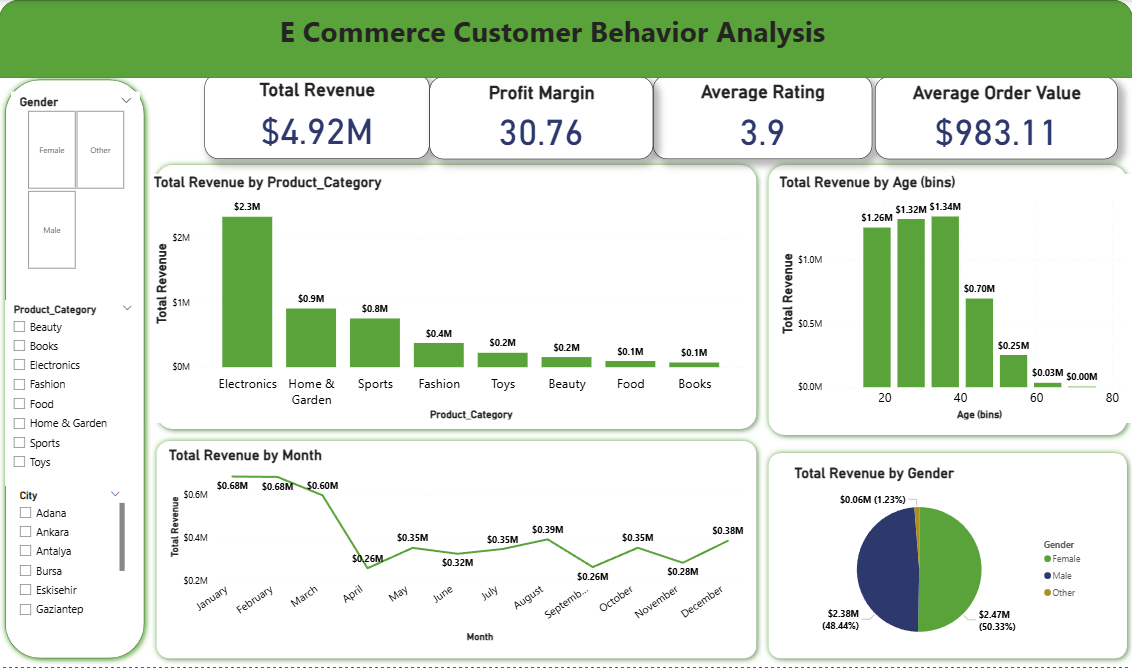

This screenshot's page, from the dashboard's own definition file:
{"tool":"powerbi","page":{"name":"Page 1","canvas":[1700,1000],"ordinal":0},"visuals":[{"type":"shape","box":[0,110.2,227.1,886.1],"z":0},{"type":"shape","box":[227.1,652.2,917.6,344.1],"z":1000},{"type":"shape","box":[1144.7,670.2,555.5,326.1],"z":2000},{"type":"shape","box":[1144.7,238.4,555.5,422.8],"z":3000},{"type":"shape","box":[227.1,238.4,917.6,413.8],"z":4000},{"type":"card","title":"Total Revenue","fields":{"Values":["E commerce.Total Revenue"]},"box":[308.1,110.2,337.3,128.2],"z":5000},{"type":"card","title":"Average Rating","fields":{"Values":["E commerce.Average Rating"]},"box":[980.5,112.4,328.3,125.9],"z":6000},{"type":"card","title":"Average Order Value","fields":{"Values":["E commerce.Average Order Value"]},"box":[1313.4,114.7,364.3,123.7],"z":7000},{"type":"clusteredColumnChart","fields":{"Category":["E commerce.Product_Category"],"Y":["E commerce.Total Revenue"]},"box":[227.1,260.9,897.3,373.3],"z":8000},{"type":"card","title":"Profit Margin","fields":{"Values":["E commerce.Profit Margin %"]},"box":[645.4,114.7,335.1,123.7],"z":9000},{"type":"lineChart","fields":{"Y":["E commerce.Total Revenue"],"Category":["E commerce.Purchase Date.Variation.Date Hierarchy.Month"]},"box":[249.6,670.2,874.8,296.9],"z":10000},{"type":"pieChart","fields":{"Category":["E commerce.Gender"],"Y":["E commerce.Total Revenue"]},"box":[1187.4,697.2,449.8,287.9],"z":12000},{"type":"shape","box":[0,0,1700.2,116.9],"z":13000},{"type":"textbox","box":[99,11.2,1461.8,101.2],"z":14000},{"type":"slicer","fields":{"Values":["E commerce.Gender"]},"box":[18,137.2,193.4,272.1],"z":15000},{"type":"slicer","fields":{"Values":["E commerce.Product_Category"]},"box":[9,449.8,202.4,278.9],"z":15001},{"type":"slicer","fields":{"Values":["E commerce.City"]},"box":[18,728.7,175.4,202.4],"z":15002},{"type":"clusteredColumnChart","fields":{"Y":["E commerce.Total Revenue"],"Category":["E commerce.Age (bins)"]},"box":[1164.9,260.9,535.2,373.3],"z":15003}]}

Visuals, with their boxes in screenshot pixels (x1, y1, x2, y2), scaled from the page's 1700x1000 canvas onto the 1132x668 screenshot:
shape: [0,74,151,666]
shape: [151,436,762,666]
shape: [762,448,1131,666]
shape: [762,159,1131,442]
shape: [151,159,762,436]
"Total Revenue" card: [205,74,430,159]
"Average Rating" card: [653,75,872,159]
"Average Order Value" card: [875,77,1117,159]
clusteredColumnChart - E commerce.Product_Category x E commerce.Total Revenue: [151,174,749,424]
"Profit Margin" card: [430,77,653,159]
lineChart - E commerce.Total Revenue x E commerce.Purchase Date.Variation.Date Hierarchy.Month: [166,448,749,646]
pieChart - E commerce.Gender x E commerce.Total Revenue: [791,466,1090,658]
shape: [0,0,1131,78]
textbox: [66,7,1039,75]
slicer - E commerce.Gender: [12,92,141,273]
slicer - E commerce.Product_Category: [6,300,141,487]
slicer - E commerce.City: [12,487,129,622]
clusteredColumnChart - E commerce.Total Revenue x E commerce.Age (bins): [776,174,1131,424]
